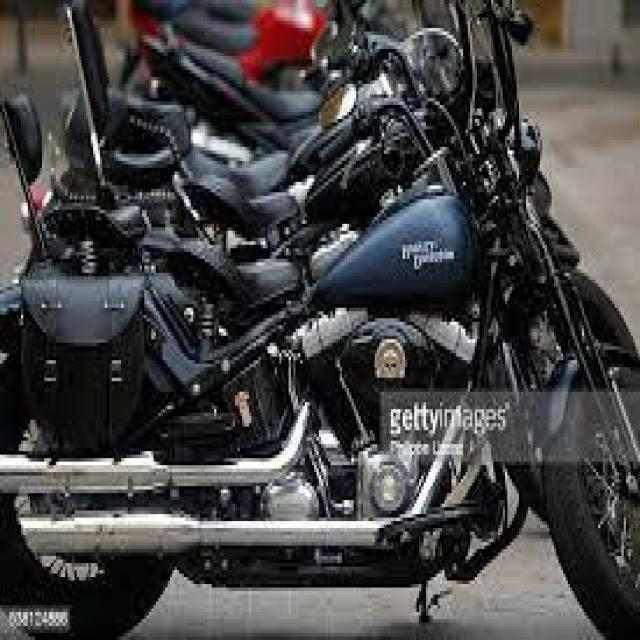MOTORCYCLE: (4, 110, 636, 636)
